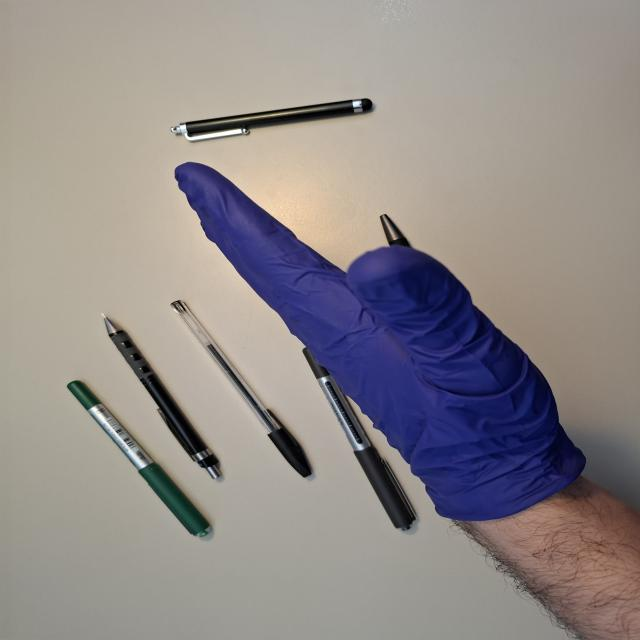glove_on: (170, 160, 588, 528)
